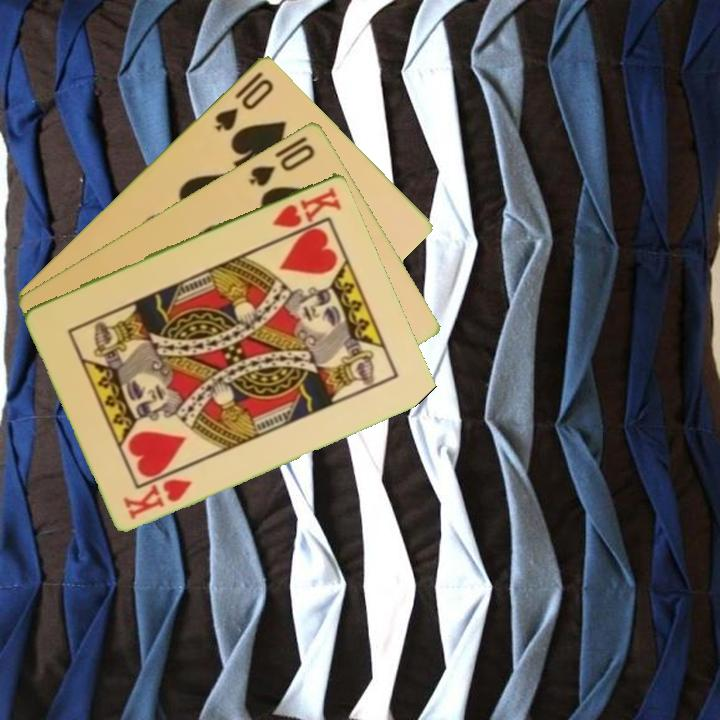10s: (211, 67, 277, 134), (245, 140, 318, 189)
Kh: (268, 183, 344, 231), (119, 474, 195, 522)
